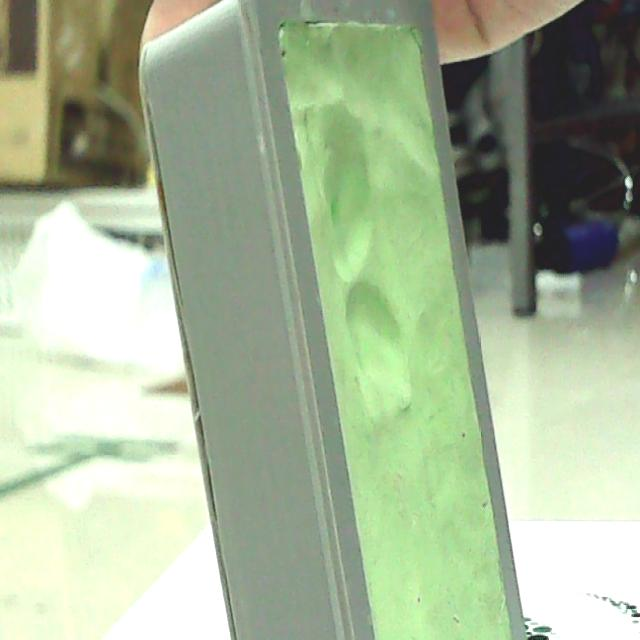block: (123, 0, 538, 640)
